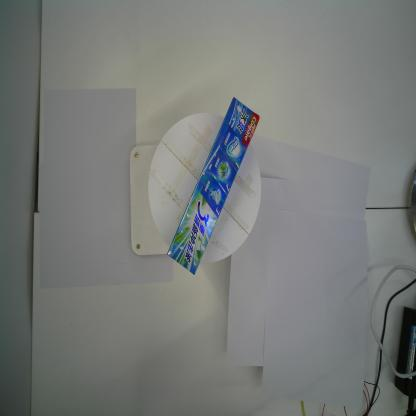Personal Hygiene: (165, 94, 262, 276)
